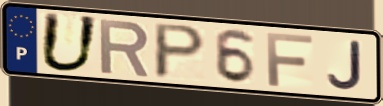6: (213, 28, 257, 85)
F: (264, 31, 316, 89)
J: (325, 40, 364, 92)
P: (152, 21, 209, 80)
R: (97, 17, 152, 78)
U: (37, 10, 101, 74)
